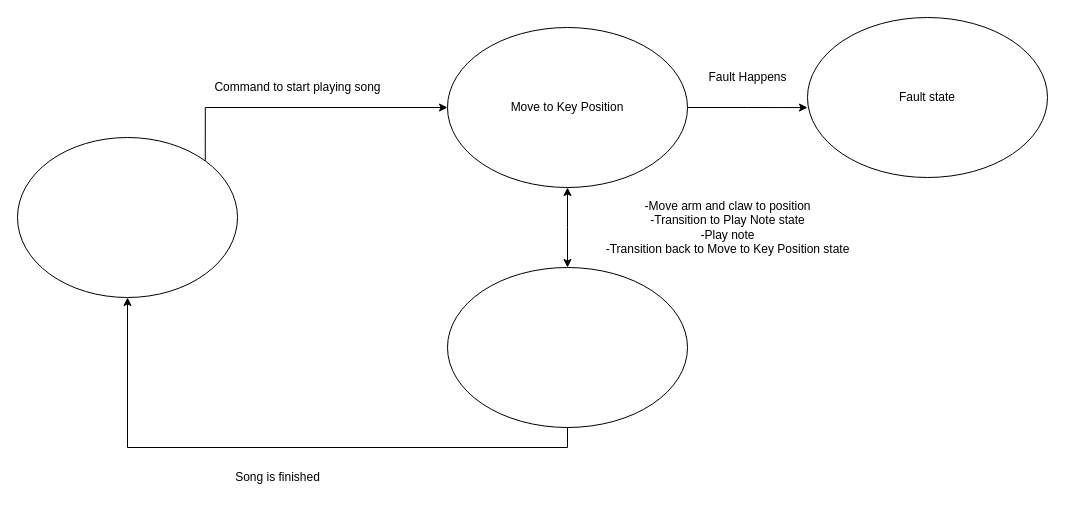
This 1065x505 diagram has some shape labels left out. The box of each missing label's shape, as (x1, y1, x2, y2) in pixels:
Move to Ready State -Start here: (16, 136, 238, 298)
Play Note: (446, 266, 688, 428)
